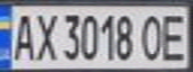0: (78, 11, 100, 62)
1: (97, 11, 118, 62)
3: (57, 9, 81, 62)
8: (115, 10, 139, 61)
A: (6, 9, 36, 62)
E: (157, 10, 193, 62)
O: (136, 11, 166, 62)
X: (33, 8, 60, 62)
